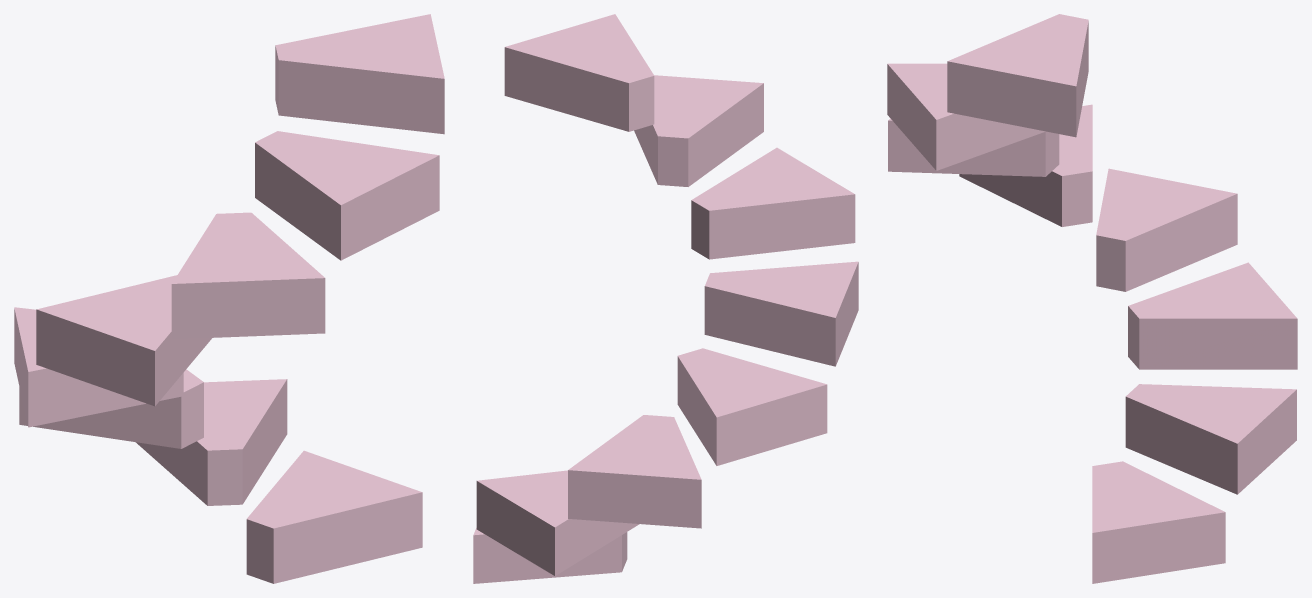
File: spiral_staircase.glb
The picture shows the model from 3 angles, left to right: view 1: azimuth 30°, elevation 25°; view 2: azimuth 150°, elevation 25°; view 3: azimuth 270°, elevation 25°; orthographic projection. The views are drawn at different scales.
Visible parts, largest first — view 1: spiral_staircase_step6, spiral_staircase_step0, spiral_staircase_step7, spiral_staircase_step5, spiral_staircase_step4, spiral_staircase_step1, spiral_staircase_step3, spiral_staircase_step2; view 2: spiral_staircase_step5, spiral_staircase_step4, spiral_staircase_step7, spiral_staircase_step3, spiral_staircase_step2, spiral_staircase_step6, spiral_staircase_step1, spiral_staircase_step0; view 3: spiral_staircase_step1, spiral_staircase_step2, spiral_staircase_step7, spiral_staircase_step3, spiral_staircase_step0, spiral_staircase_step6, spiral_staircase_step4, spiral_staircase_step5.
Part boxes in pixels (bbox=[...]): spiral_staircase_step6: bbox=[255, 131, 439, 260]; spiral_staircase_step0: bbox=[246, 450, 422, 583]; spiral_staircase_step7: bbox=[275, 14, 444, 134]; spiral_staircase_step5: bbox=[171, 212, 325, 339]; spiral_staircase_step4: bbox=[36, 275, 211, 406]; spiral_staircase_step1: bbox=[136, 379, 287, 505]; spiral_staircase_step3: bbox=[14, 307, 183, 427]; spiral_staircase_step2: bbox=[19, 369, 203, 448]; spiral_staircase_step5: bbox=[691, 147, 855, 259]; spiral_staircase_step4: bbox=[704, 261, 858, 366]; spiral_staircase_step7: bbox=[504, 14, 654, 131]; spiral_staircase_step3: bbox=[677, 348, 827, 465]; spiral_staircase_step2: bbox=[568, 415, 701, 528]; spiral_staircase_step6: bbox=[634, 75, 763, 186]; spiral_staircase_step1: bbox=[476, 470, 639, 575]; spiral_staircase_step0: bbox=[473, 528, 627, 583]; spiral_staircase_step1: bbox=[1125, 384, 1296, 494]; spiral_staircase_step2: bbox=[1128, 262, 1297, 369]; spiral_staircase_step7: bbox=[947, 14, 1088, 137]; spiral_staircase_step3: bbox=[1096, 168, 1237, 291]; spiral_staircase_step0: bbox=[1092, 461, 1225, 583]; spiral_staircase_step6: bbox=[887, 63, 1045, 170]; spiral_staircase_step4: bbox=[959, 104, 1092, 226]; spiral_staircase_step5: bbox=[888, 118, 1059, 176].
Size of the model in its own units: 0.7 by 0.936 by 0.7.
